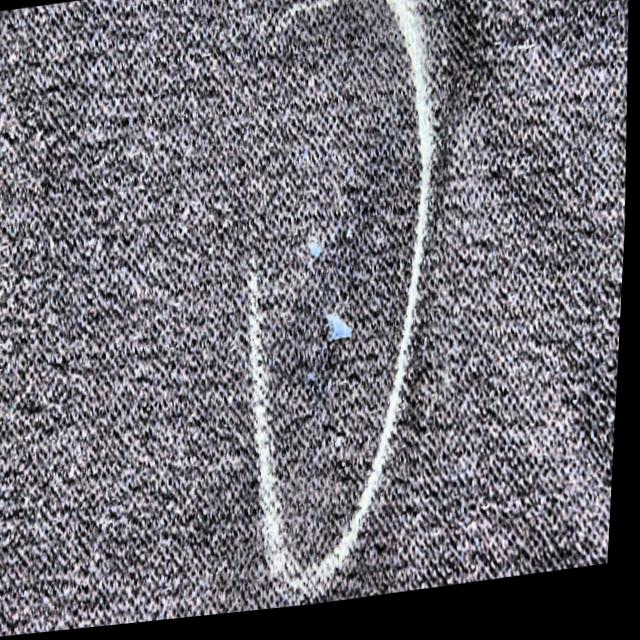Hole: (318, 290, 376, 385), (299, 202, 336, 284)
